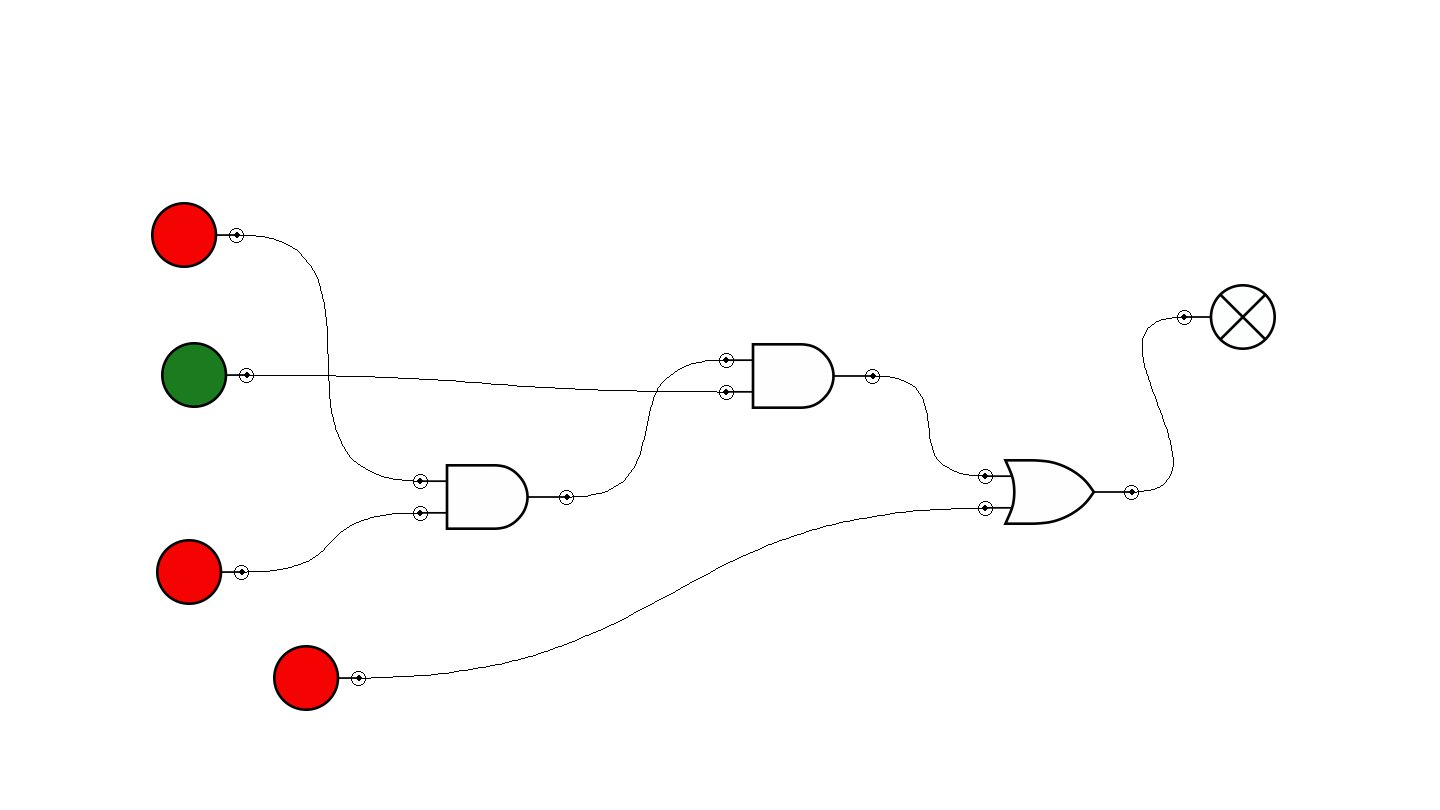and: (719, 343, 880, 409), (413, 464, 574, 530)
bulb: (1177, 284, 1276, 350)
or: (978, 459, 1139, 525)
switch_False: (151, 202, 244, 268), (156, 539, 249, 605), (273, 645, 366, 711)
switch_True: (161, 342, 254, 408)
